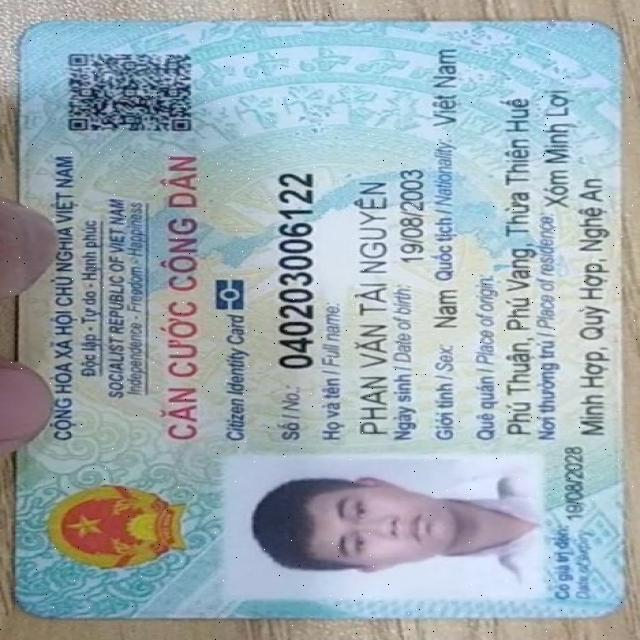current_place: (202, 567, 468, 612), (431, 534, 552, 575)
dob: (375, 393, 472, 425)
expire_date: (119, 558, 197, 587)
gender: (309, 427, 353, 462)
id: (268, 270, 469, 318)
name: (202, 348, 463, 392)
nationality: (508, 427, 594, 461)
origin_place: (204, 498, 544, 537)
